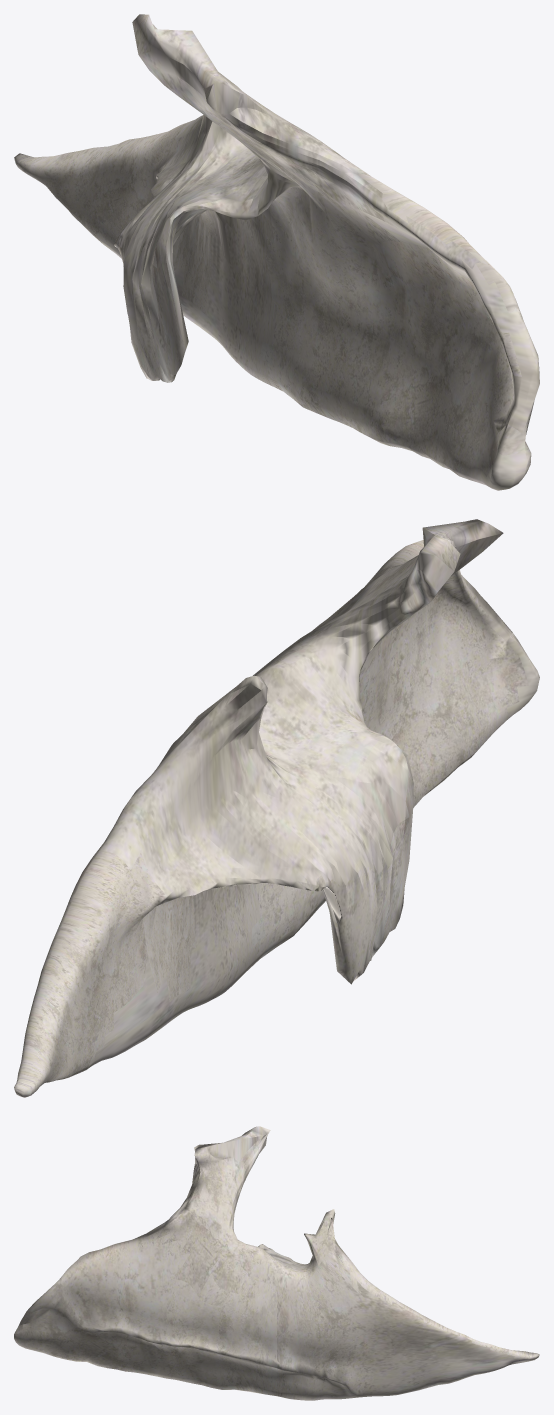
The model's file is lower_turbinate__cornete_inferior.glb.
3 renders of one model, top to bottom at view 1: azimuth 30°, elevation 25°; view 2: azimuth 150°, elevation 25°; view 3: azimuth 270°, elevation 25°, orthographic. The views are drawn at different scales.
Parts seen in each view (by area): view 1: Object_2; view 2: Object_2; view 3: Object_2.
Part boxes in pixels (bbox=[...]): Object_2: bbox=[14, 14, 539, 490]; Object_2: bbox=[14, 519, 539, 1097]; Object_2: bbox=[14, 1126, 539, 1400].
Size of the model in its own units: 1.19 by 2.14 by 4.39.
Materials: 1 (1 with a texture image).
